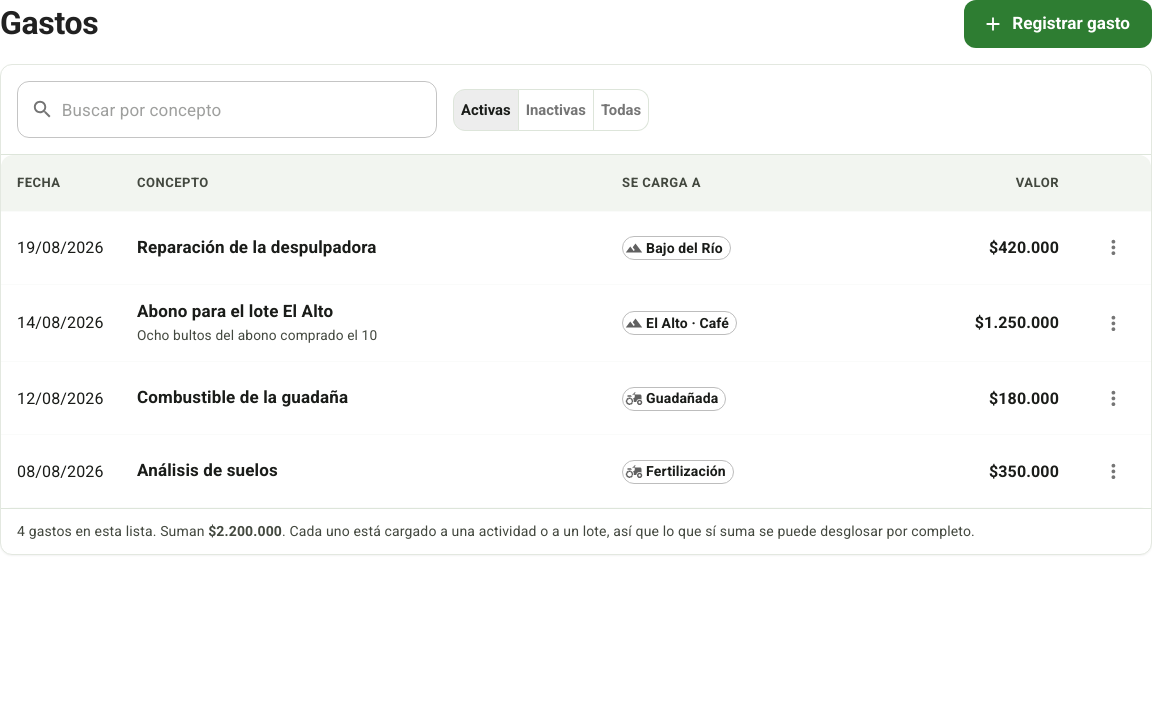
Test case: an expense is charged to one thing, and the form cannot say otherwise › records one charged to a lot, and shows what it was charged to
The image size is (1152, 720).
expect the text "Abono para el lote El Alto" is shown: met, box [137,301,333,321]
Step 1. Click the button "Registrar gasto" → click(1058, 24), box [964,0,1151,48]
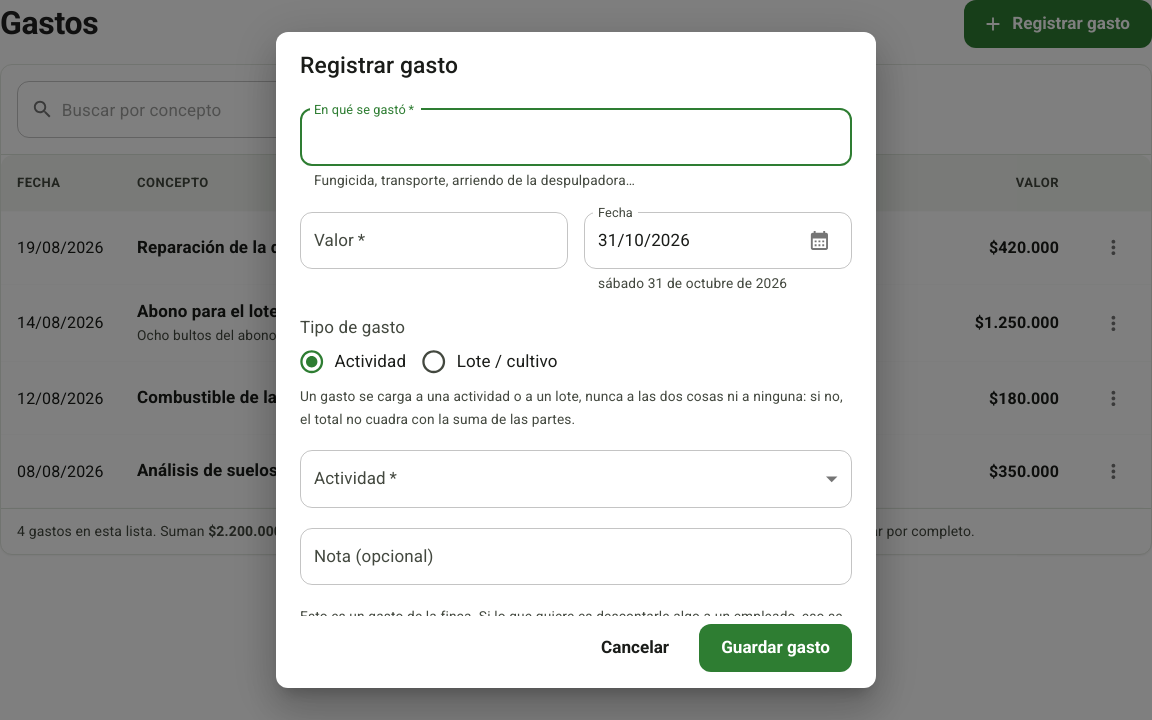
Step 2. Type "Arreglo de la cerca" into the field labelled "En qué se gastó *" → (576, 137), box [300,109,852,166]
Step 3. Type "300000" into the field labelled "Valor *" → (434, 240), box [300,212,568,269]
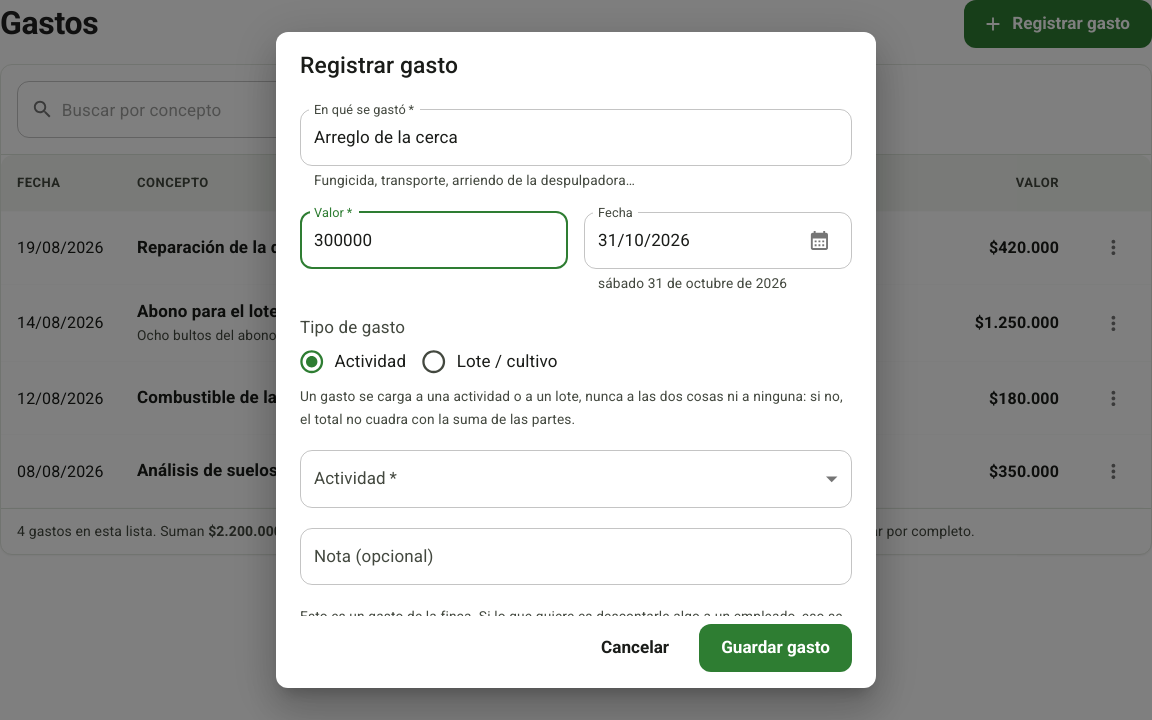
Step 4. Click the radio button labelled "Lote / cultivo" → click(484, 362), box [411,339,558,385]
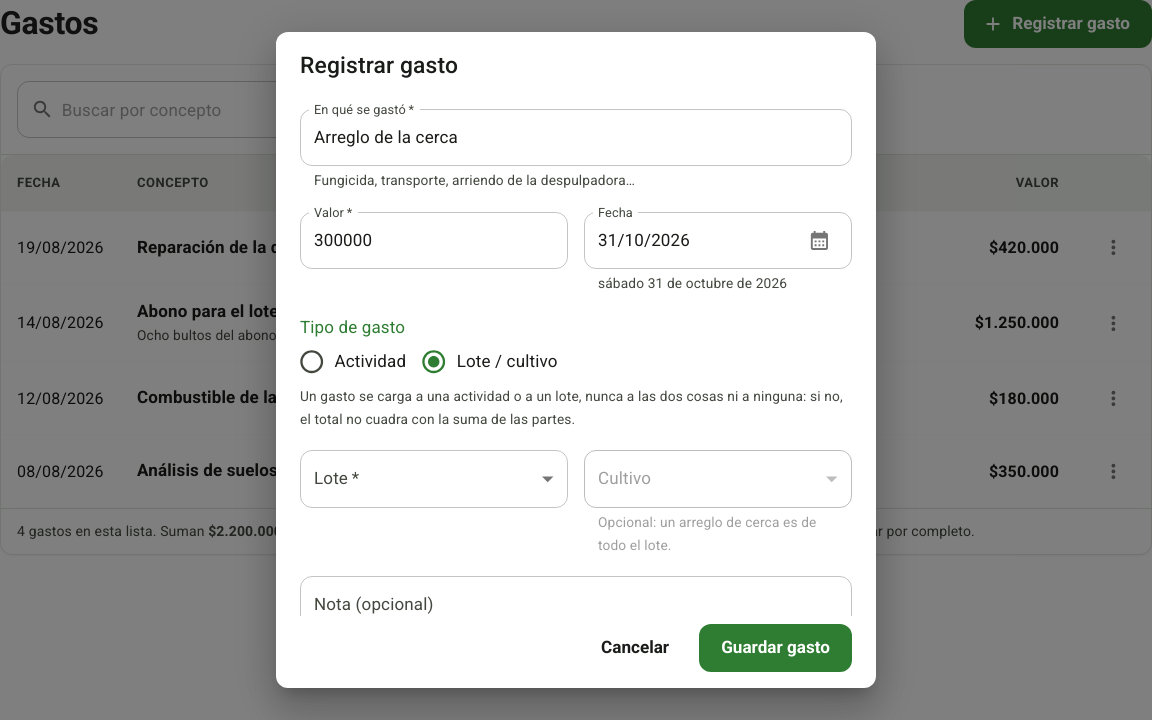
Step 5. Click the 1st dropdown named "Lote" → click(434, 479), box [300,450,568,508]
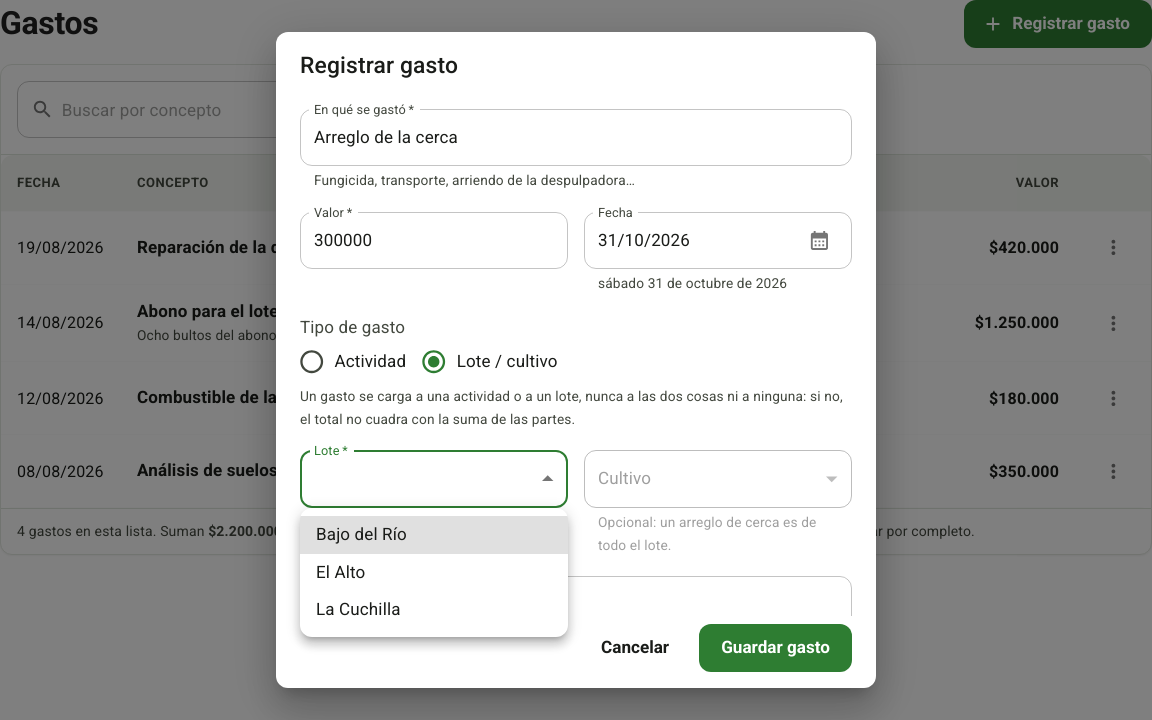
Step 6. Click the option "El Alto" → click(341, 572), box [316,562,365,582]
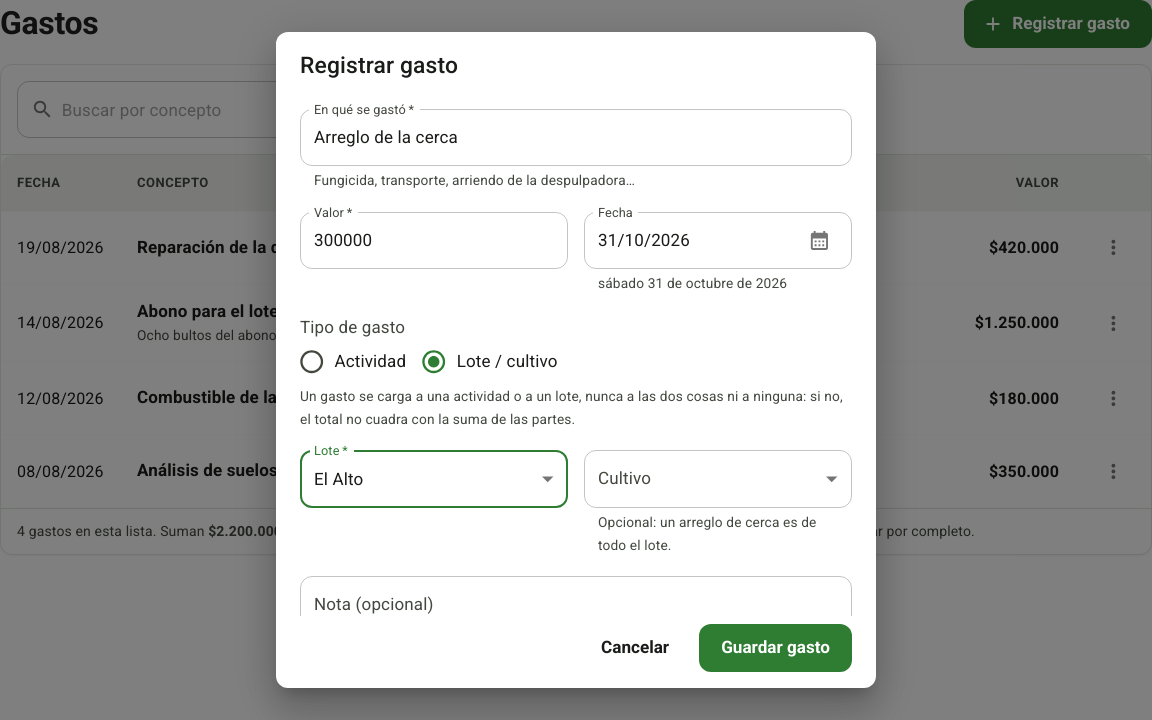
Step 7. Click the button "Guardar gasto" → click(776, 648), box [699,624,852,672]
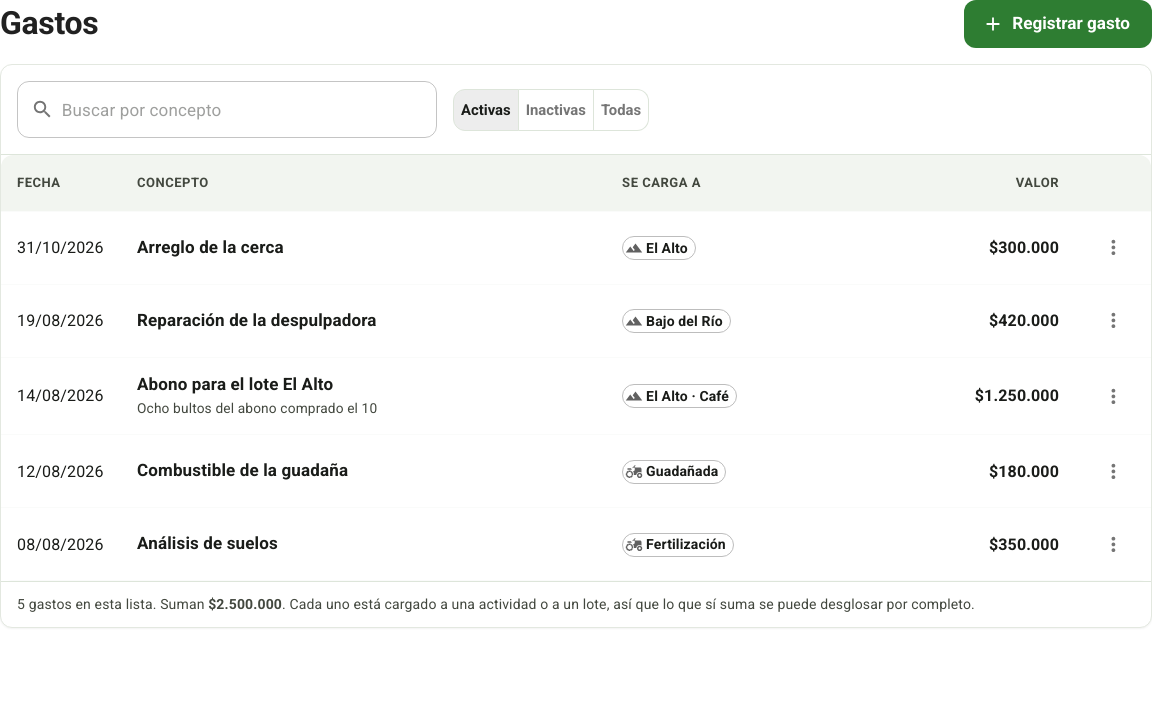
expect the text "El Alto" is shown: met, box [646,240,688,256]
expect the text "Arreglo de la cerca" is shown: met, box [137,237,284,257]
